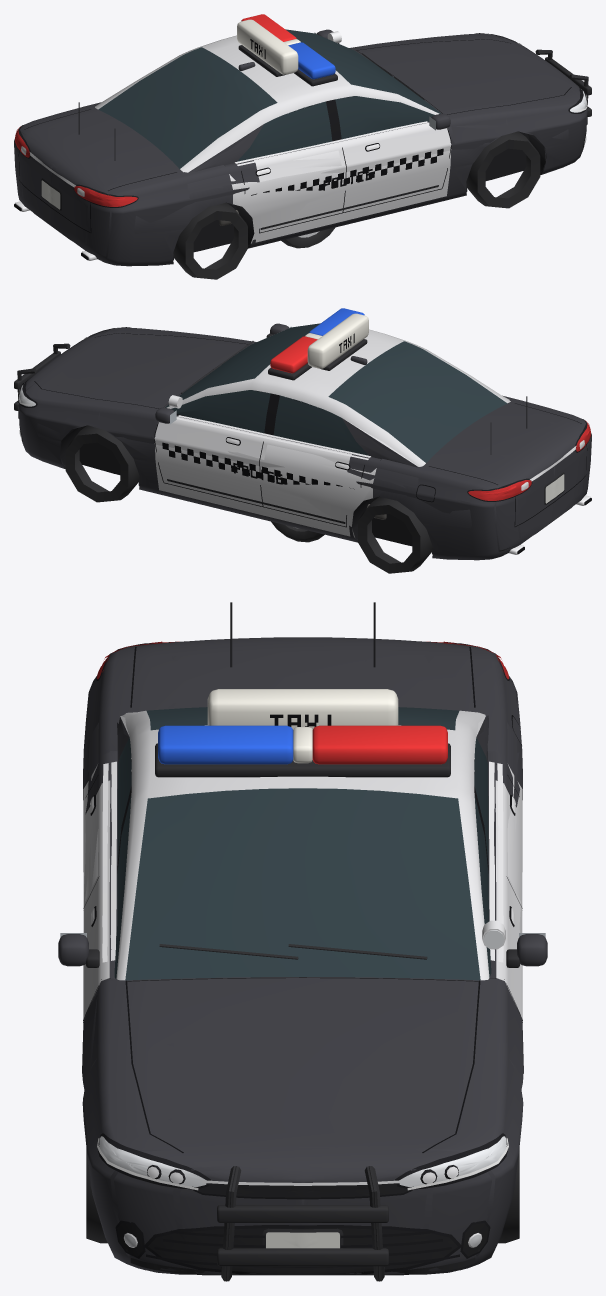
Rendered from cars.glb.
3 renders of one model, top to bottom at view 1: azimuth 30°, elevation 25°; view 2: azimuth 150°, elevation 25°; view 3: azimuth 270°, elevation 25°, orthographic. The views are drawn at different scales.
Parts seen in each view (by area): view 1: police, police_lo, taxi, police_wf; view 2: police, police_lo, taxi, police_wf; view 3: police, police_lo, taxi.
Part boxes in pixels (box(x1,y1,x2,y2)): police: box(14, 14, 591, 266); police_lo: box(14, 35, 587, 279); taxi: box(237, 19, 443, 195); police_wf: box(281, 227, 335, 248); police: box(14, 308, 591, 560); police_lo: box(18, 329, 591, 573); taxi: box(162, 313, 368, 489); police_wf: box(271, 521, 324, 542); police: box(58, 602, 547, 1281); police_lo: box(82, 638, 523, 1281); taxi: box(207, 689, 398, 729).
Bounding box in the file's own units: 5.04 × 2 × 2.05.
